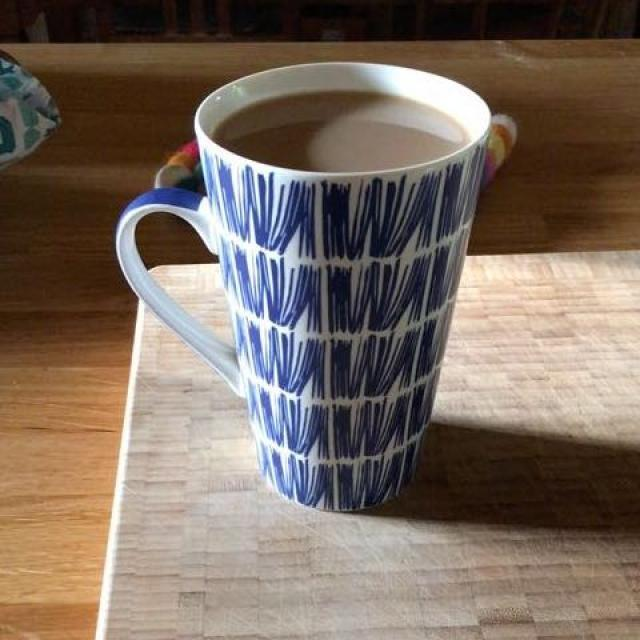coffee: (218, 93, 469, 173)
